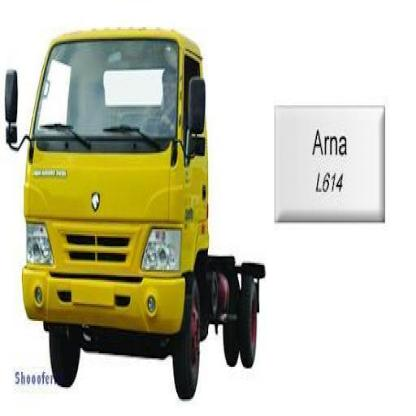Truck: (0, 0, 260, 401)
